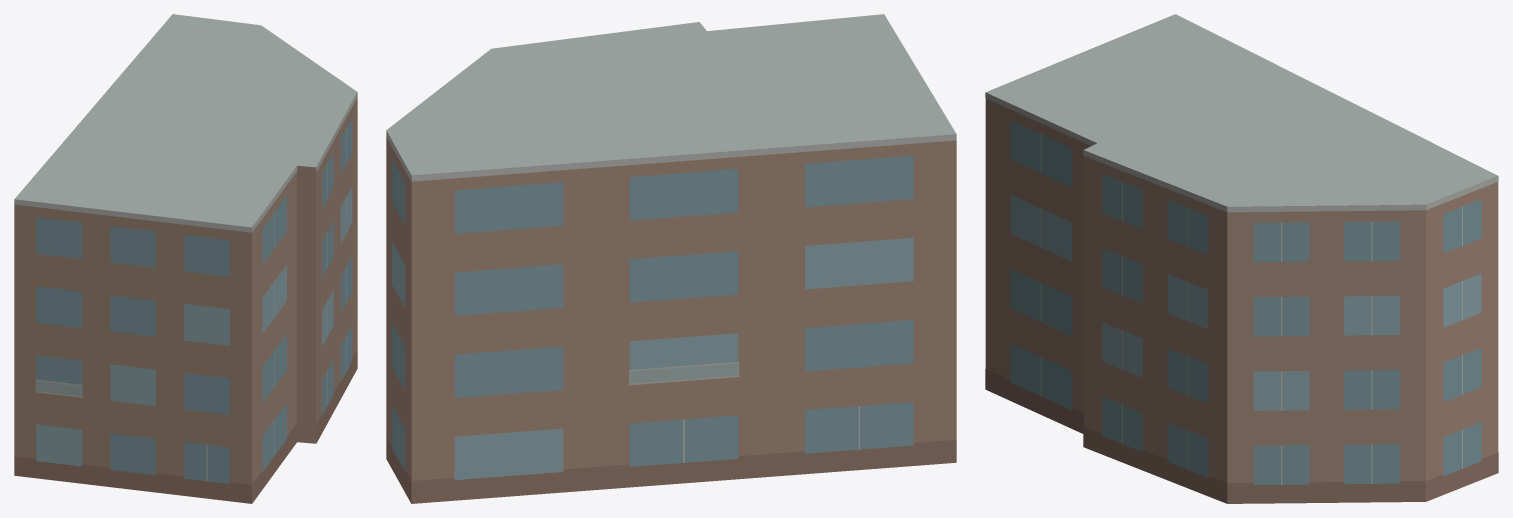
Rendered from survey-upis-32779726.glb.
3 views of the same model, side by side, from view 1: azimuth 30°, elevation 25°; view 2: azimuth 150°, elevation 25°; view 3: azimuth 270°, elevation 25° (orthographic). The views are drawn at different scales.
Visible parts, largest first — view 1: survey-upis-32779726.tmp; view 2: survey-upis-32779726.tmp; view 3: survey-upis-32779726.tmp.
Part boxes in pixels (x1,y1,x2,y2): survey-upis-32779726.tmp: (14, 14, 357, 503); survey-upis-32779726.tmp: (386, 14, 956, 503); survey-upis-32779726.tmp: (985, 14, 1498, 503).
Bounding box in the file's own units: 17.81 × 12.8 × 20.04.
